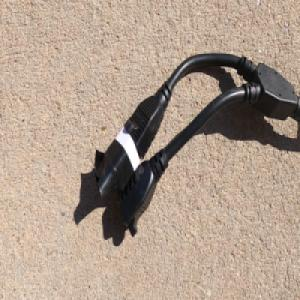Wire: (93, 52, 300, 237)
